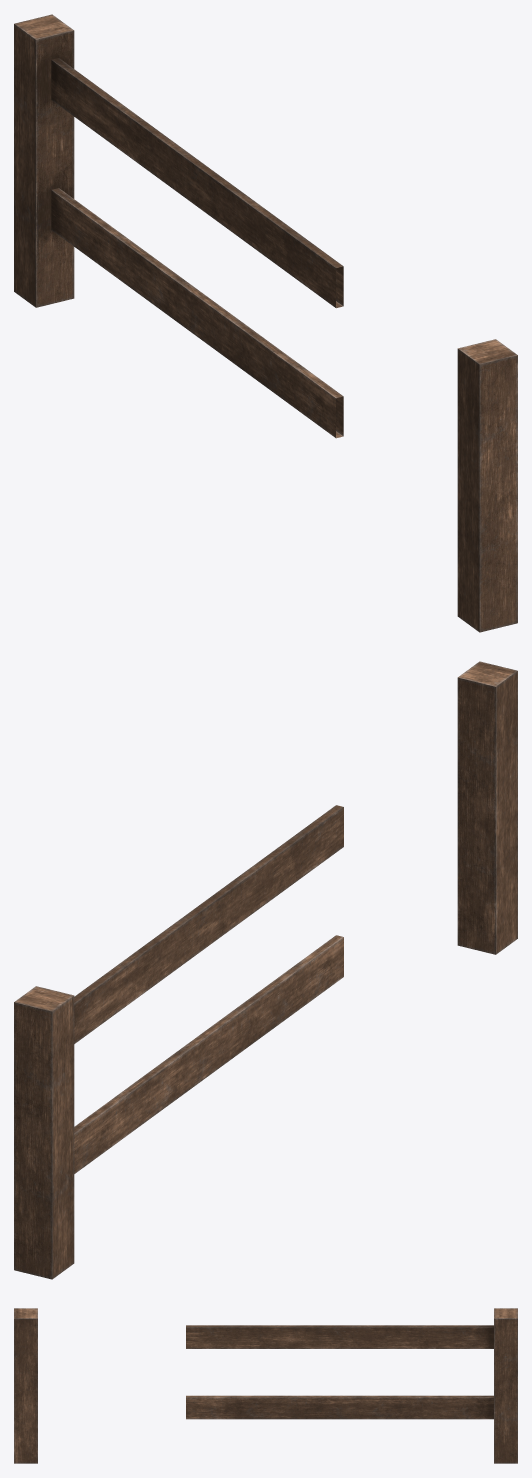
The picture shows the model from 3 angles, top to bottom: view 1: azimuth 30°, elevation 25°; view 2: azimuth 150°, elevation 25°; view 3: azimuth 270°, elevation 25°; orthographic projection. The views are drawn at different scales.
Visible parts, largest first — view 1: 0004_Fence_0, 0004_Fence_1; view 2: 0004_Fence_0, 0004_Fence_1; view 3: 0004_Fence_0, 0004_Fence_1.
Boxes of the visible parts, bbox=[...] form: 0004_Fence_0: bbox=[14, 14, 343, 438]; 0004_Fence_1: bbox=[457, 339, 517, 632]; 0004_Fence_0: bbox=[14, 805, 343, 1279]; 0004_Fence_1: bbox=[457, 661, 517, 954]; 0004_Fence_0: bbox=[186, 1308, 517, 1463]; 0004_Fence_1: bbox=[14, 1308, 37, 1463].
Size of the model in its own units: 14.95 by 100 by 315.
1 material, 1 textured.
